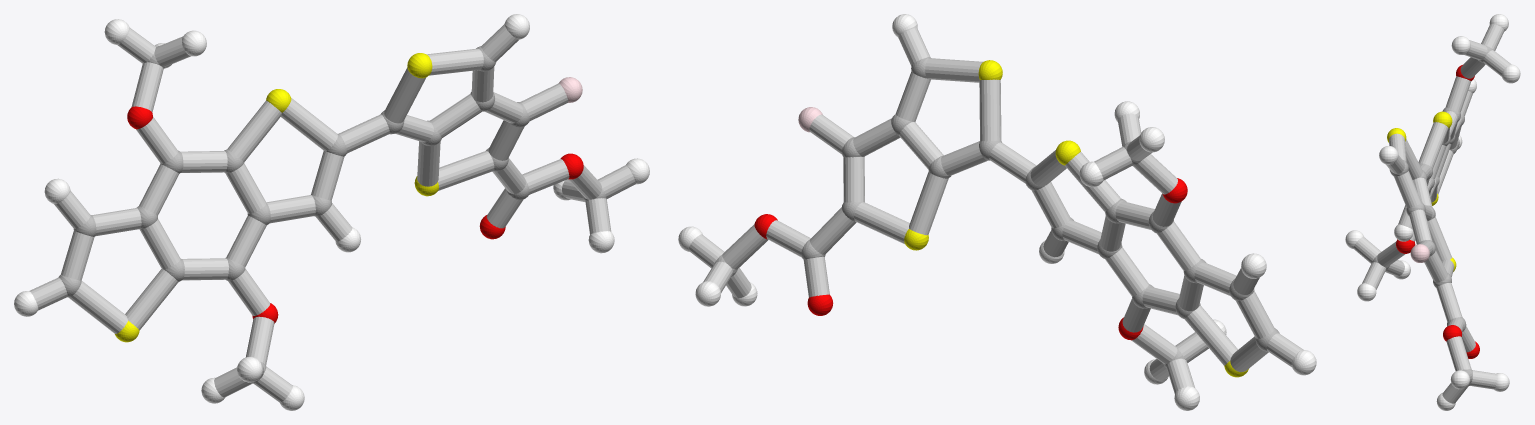
File: color.glb
The picture shows the model from 3 angles, left to right: view 1: azimuth 30°, elevation 25°; view 2: azimuth 150°, elevation 25°; view 3: azimuth 270°, elevation 25°; orthographic projection. The views are drawn at different scales.
Visible parts, largest first — view 1: grp15205, grp8689, grp1, grp7241, grp13395; view 2: grp15205, grp8689, grp1, grp7241, grp13395; view 3: grp15205, grp8689, grp1, grp13395, grp7241, grp14843.
Boxes of the visible parts, box(x1,y1,x2,y2) form: grp15205: box(29, 24, 635, 402); grp8689: box(14, 14, 649, 410); grp1: box(58, 46, 606, 383); grp7241: box(115, 53, 438, 342); grp13395: box(127, 106, 583, 323); grp15205: box(689, 28, 1303, 393); grp8689: box(678, 14, 1316, 410); grp1: box(714, 57, 1279, 367); grp7241: box(904, 60, 1248, 377); grp13395: box(754, 178, 1187, 340); grp15205: box(1353, 24, 1510, 403); grp8689: box(1345, 14, 1520, 410); grp1: box(1372, 46, 1493, 386); grp13395: box(1396, 65, 1479, 358); grp7241: box(1387, 111, 1456, 271); grp14843: box(1410, 244, 1429, 262).
Bounding box in the file's own units: 17 × 8.78 × 5.46.
